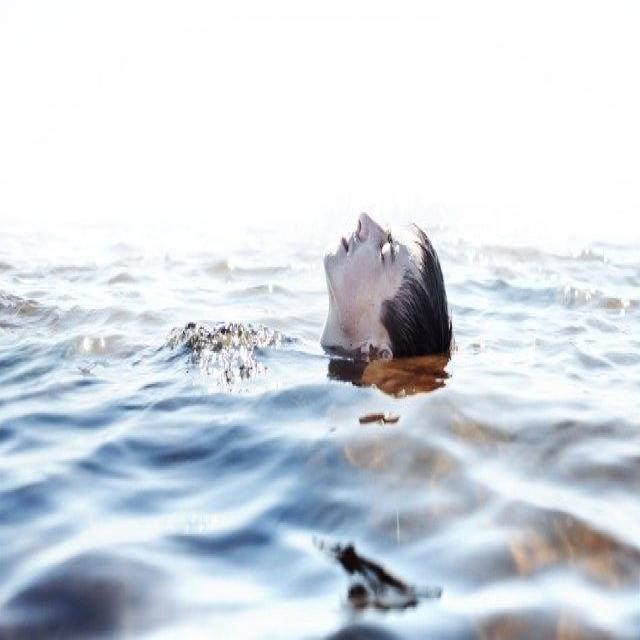Out of Water: (158, 203, 456, 434)
